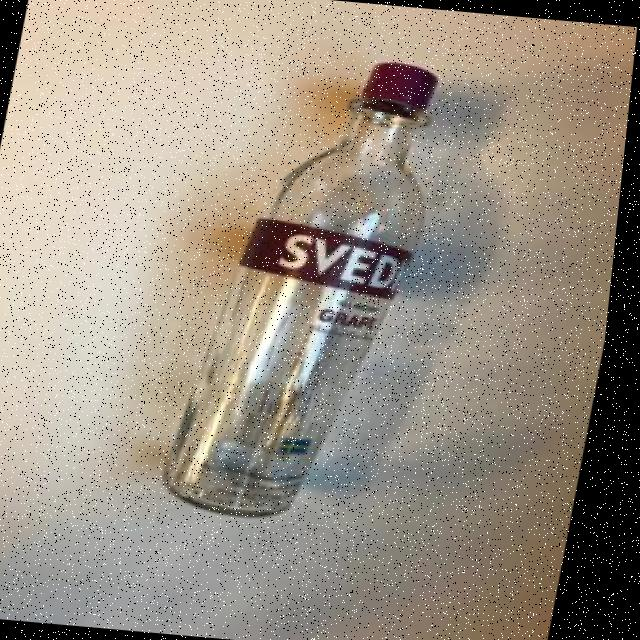glass: (148, 42, 464, 536)
